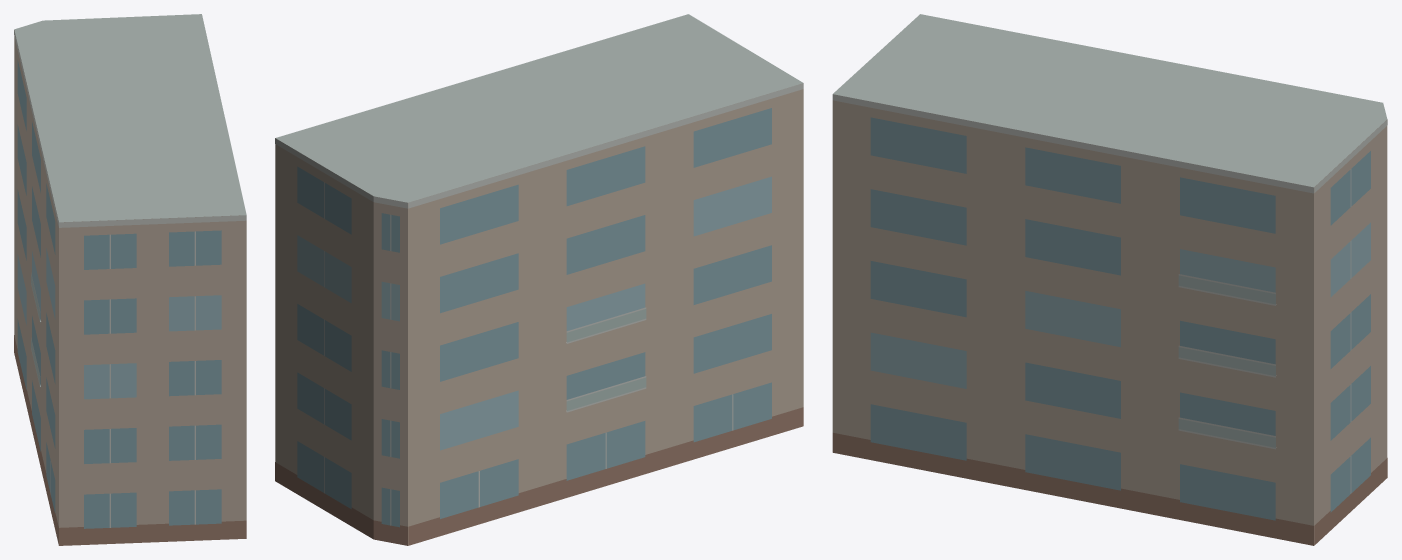
The model's file is survey-upis-32538240.glb.
3 renders of one model, left to right at view 1: azimuth 30°, elevation 25°; view 2: azimuth 150°, elevation 25°; view 3: azimuth 270°, elevation 25°, orthographic. The views are drawn at different scales.
Visible parts, largest first — view 1: survey-upis-32538240.tmp; view 2: survey-upis-32538240.tmp; view 3: survey-upis-32538240.tmp.
Boxes of the visible parts, x1,y1,x2,y2 form: survey-upis-32538240.tmp: (14,14,246,545); survey-upis-32538240.tmp: (275,14,803,545); survey-upis-32538240.tmp: (832,14,1387,545).
Bounding box in the file's own units: 14.62 × 14.09 × 19.77.
